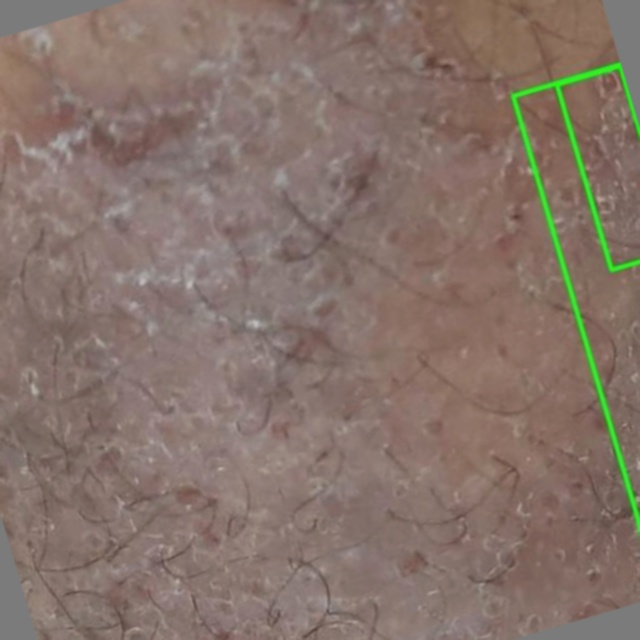Eczema: (556, 65, 639, 269)
